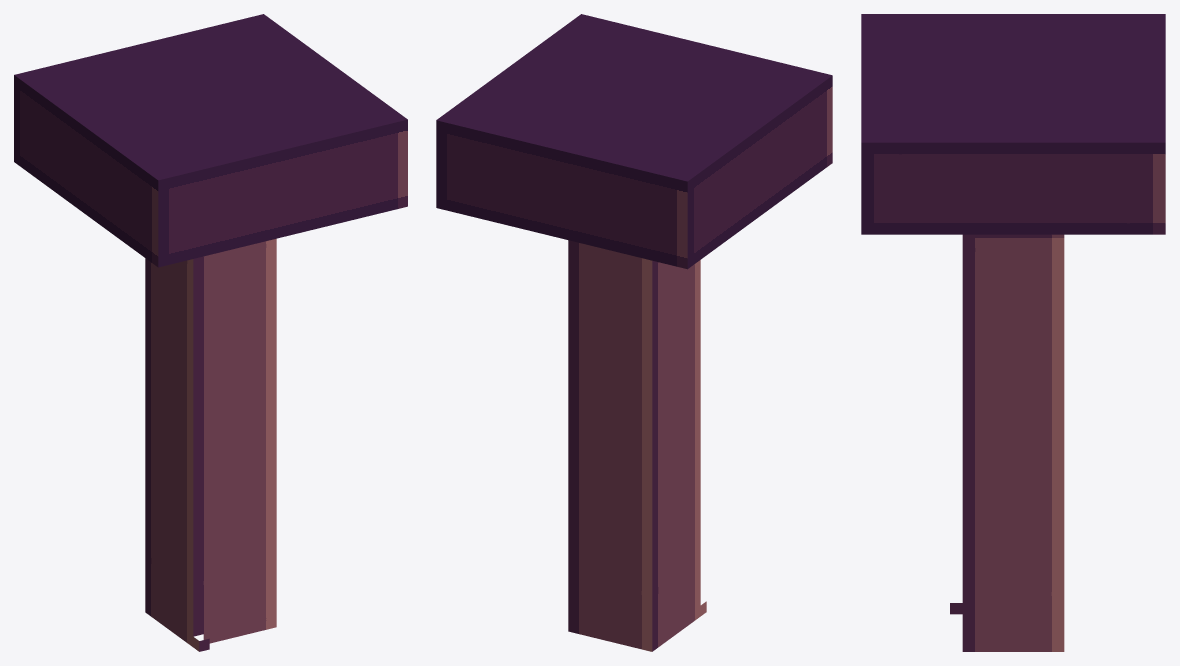
The model's file is waterfall_support_aao.fezao.glb.
The picture shows the model from 3 angles, left to right: view 1: azimuth 30°, elevation 25°; view 2: azimuth 150°, elevation 25°; view 3: azimuth 270°, elevation 25°; orthographic projection. The views are drawn at different scales.
Parts seen in each view (by area): view 1: WATERFALL_SUPPORT_AAO; view 2: WATERFALL_SUPPORT_AAO; view 3: WATERFALL_SUPPORT_AAO.
Part boxes in pixels (x1=…): WATERFALL_SUPPORT_AAO: x1=14, y1=14, x2=407, y2=651; WATERFALL_SUPPORT_AAO: x1=436, y1=14, x2=832, y2=651; WATERFALL_SUPPORT_AAO: x1=861, y1=14, x2=1165, y2=651.
Size of the model in its own units: 1.5 by 3 by 1.5.
1 material, 1 textured.
